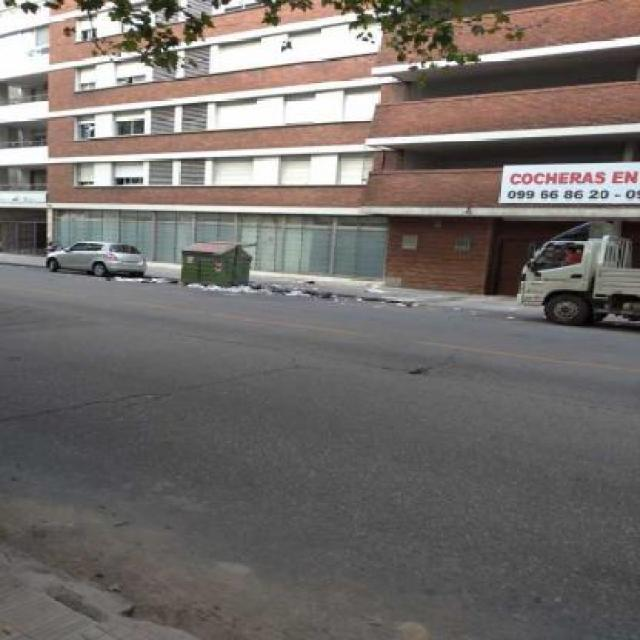garbage: (209, 279, 341, 304), (114, 274, 200, 297), (391, 297, 455, 316)
